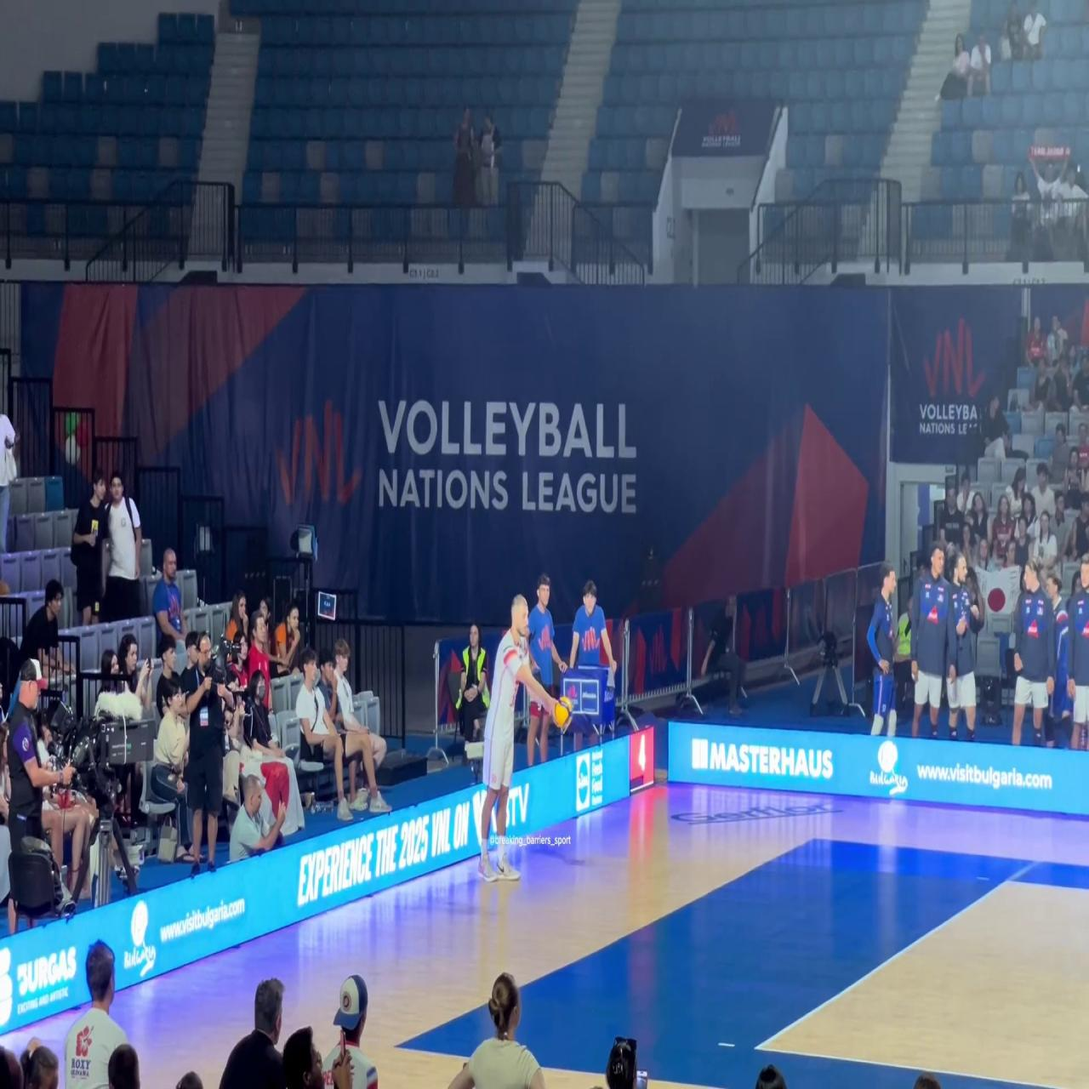ball: (555, 699, 572, 728)
